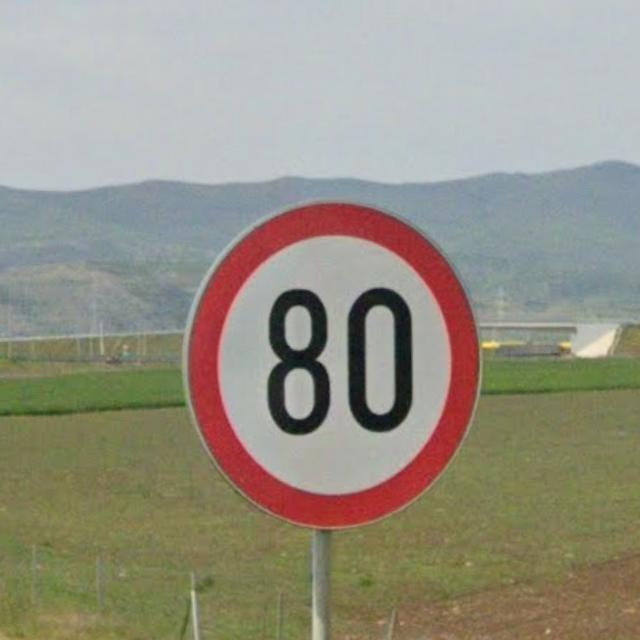forb_speed_over_80: (182, 196, 484, 530)
